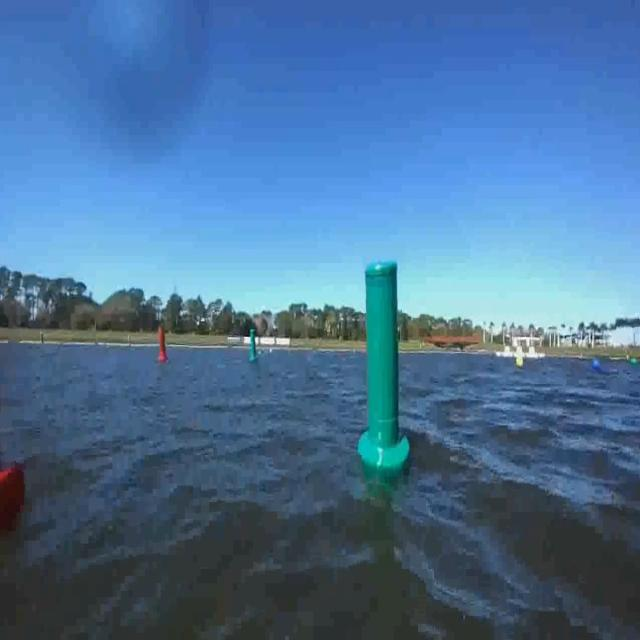blue-buoy: (590, 357, 599, 372)
green-column-buoy: (356, 257, 408, 471), (248, 328, 259, 364)
red-column-buoy: (158, 327, 170, 361)
yellow-buoy: (514, 355, 522, 370)
